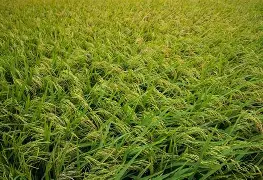crops: (0, 0, 260, 177), (15, 107, 81, 177), (0, 0, 90, 47), (181, 62, 262, 114), (190, 122, 263, 177), (72, 115, 137, 172), (87, 67, 157, 116), (126, 1, 205, 41), (195, 1, 263, 46), (25, 59, 85, 108), (0, 32, 36, 82), (167, 126, 207, 151)
